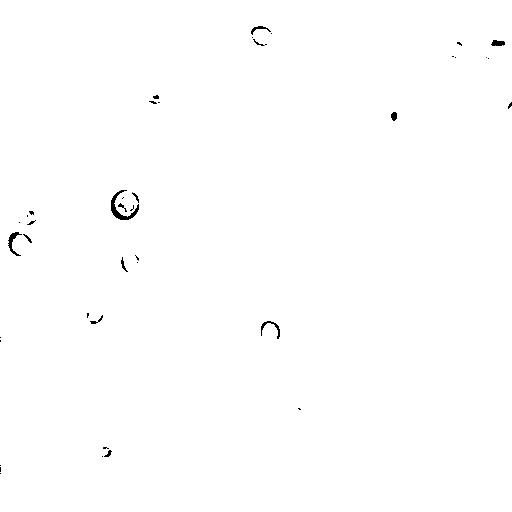micro-algae: (1, 280, 69, 364), (41, 2, 93, 45), (375, 91, 413, 139), (21, 212, 59, 255), (478, 26, 511, 60), (109, 188, 143, 220), (455, 48, 483, 74), (205, 193, 235, 217), (6, 230, 32, 257), (257, 319, 283, 343), (250, 25, 275, 47), (446, 35, 468, 59), (121, 251, 142, 273), (14, 210, 41, 227), (84, 305, 106, 325), (290, 402, 309, 425), (155, 0, 176, 17), (96, 444, 114, 459), (439, 0, 459, 7), (505, 99, 511, 119)
